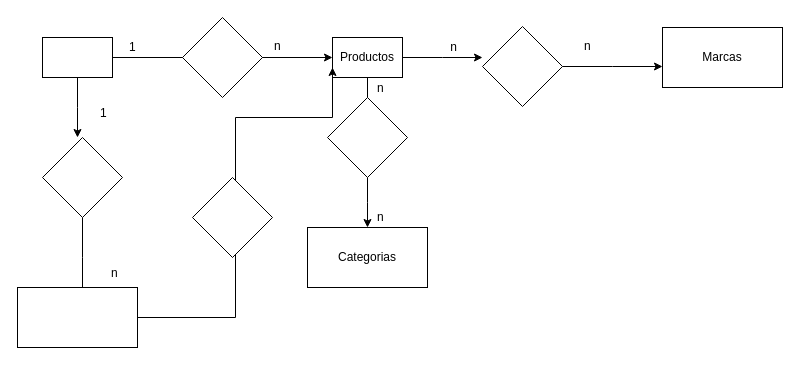
This 800x365 diagram has some shape labels left out. The box of each missing label's shape, as (x1, y1, x2, y2) in pixels:
Compras: (16, 286, 138, 348)
Usuario: (42, 36, 112, 78)
